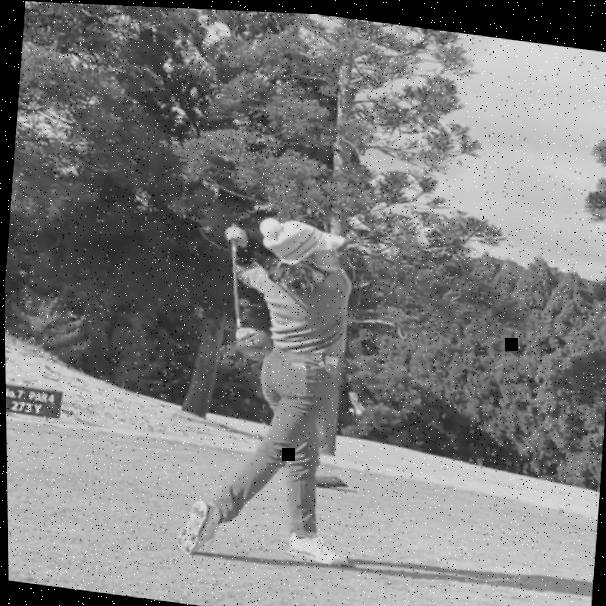ClubHead: (232, 323, 275, 361)
